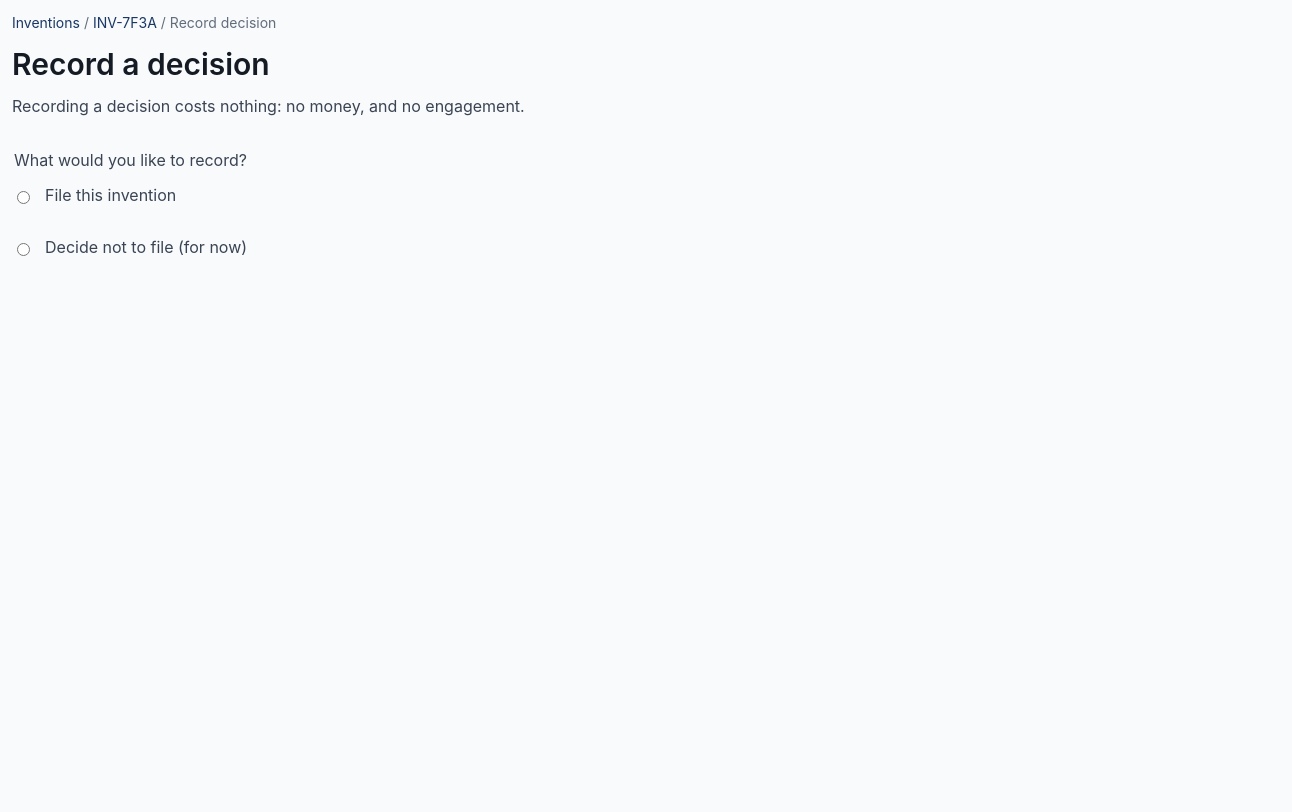
Test: SC-C09 DR-01 agnostic › shows the four alternatives at equal weight (options, not consolation)
Step 1. Click the text "Decide not to file (for now)" → [132, 247], box left=17, top=237, right=247, bottom=257
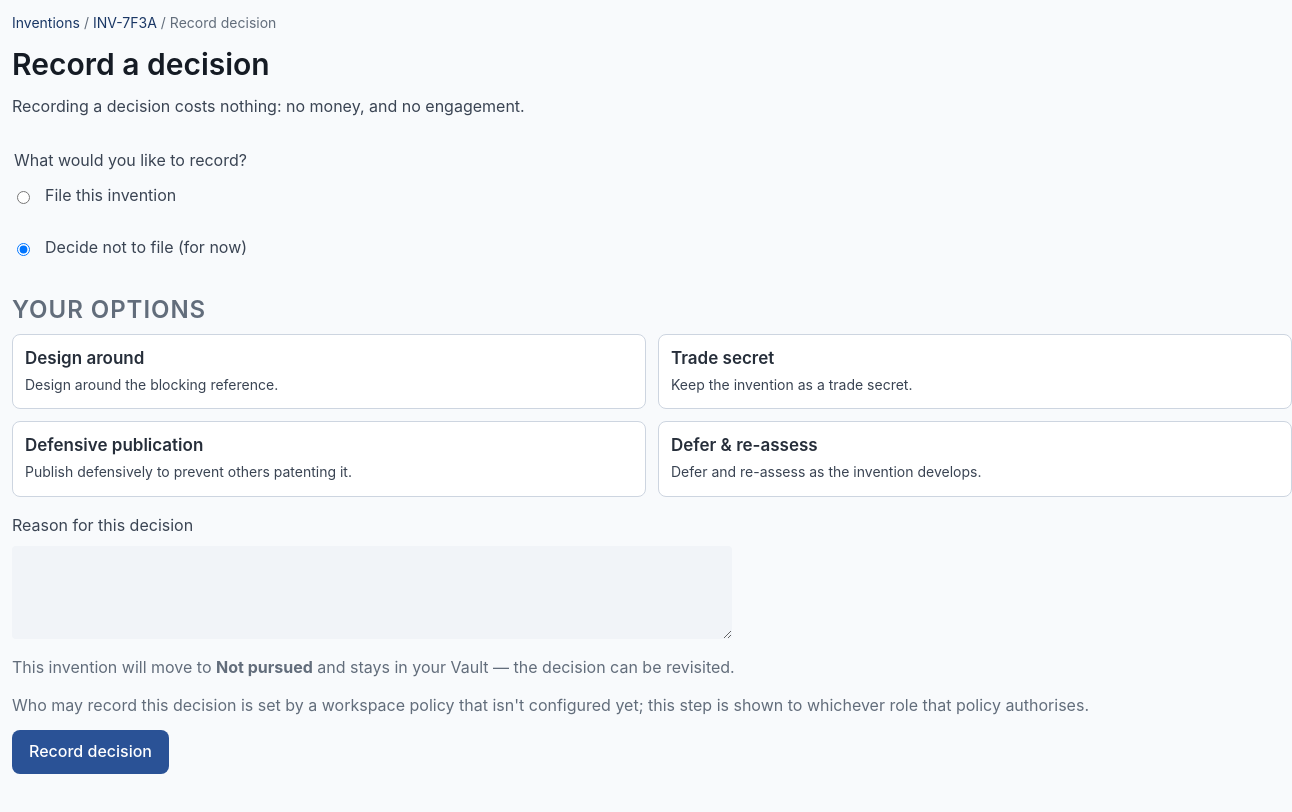
Now the heading "Design around" is shown, box left=25, top=348, right=144, bottom=368
Now the heading "Trade secret" is shown, box left=671, top=348, right=774, bottom=368
Now the heading "Defensive publication" is shown, box left=25, top=435, right=203, bottom=455
